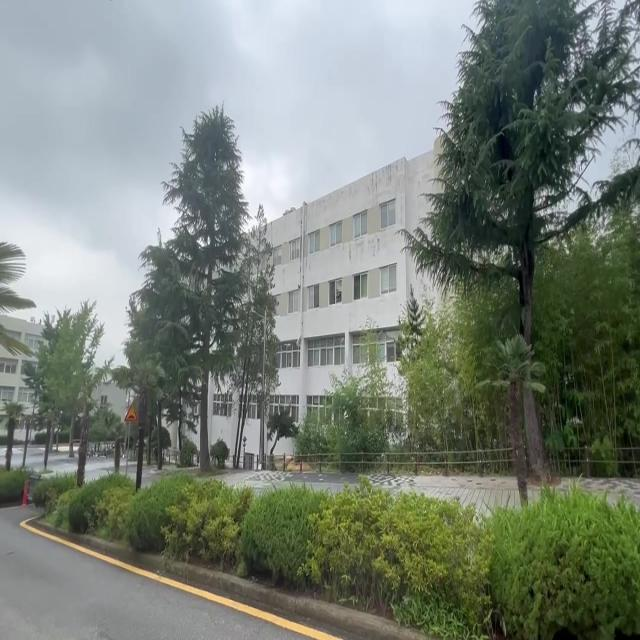building: (283, 189, 399, 381)
